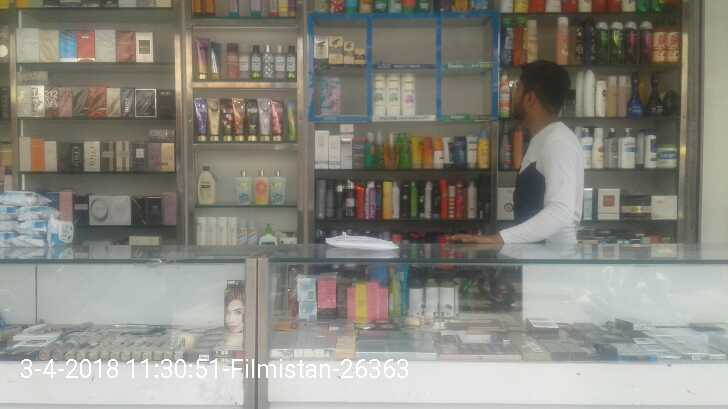venus: (320, 76, 341, 114)
